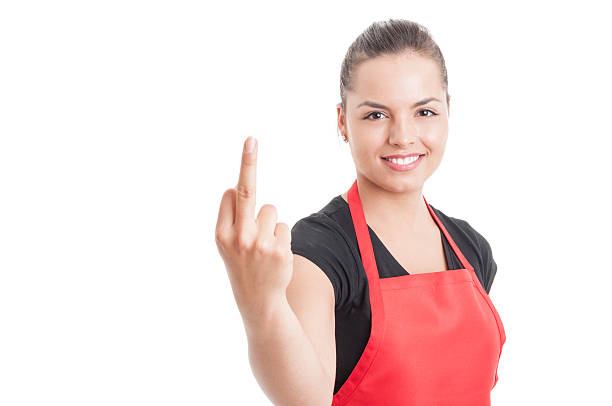insulting_gesture: (214, 133, 294, 298)
